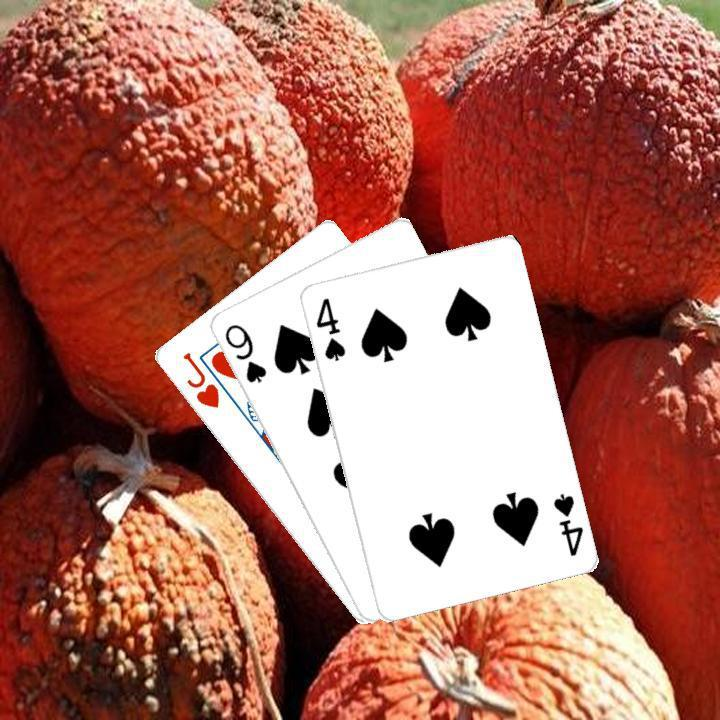4: (310, 293, 347, 363), (548, 488, 585, 558)
9: (219, 319, 268, 385)
J: (177, 347, 221, 410)
